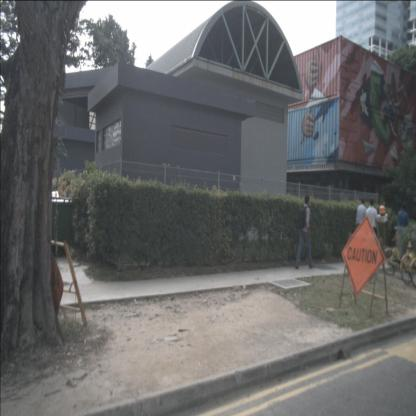human-pedestrian-adult: (294, 194, 314, 270), (365, 197, 379, 266), (396, 202, 409, 261), (356, 197, 367, 264)
